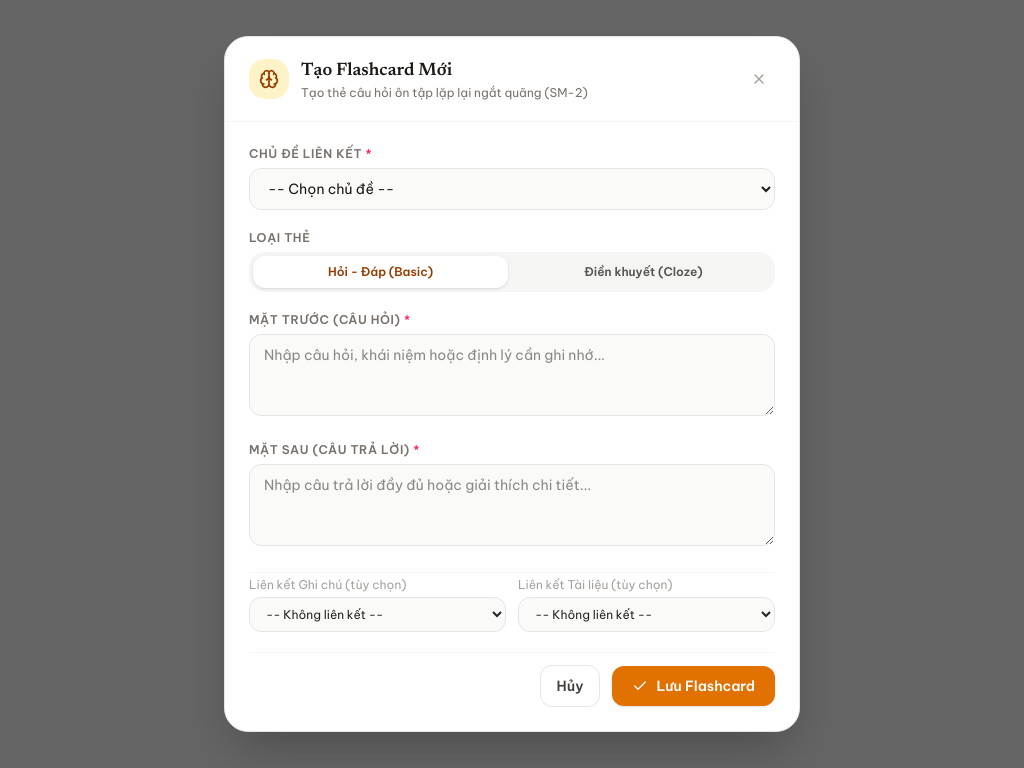
Test case: FlashcardFormModal — Unit Tests › validates topic bắt buộc (shows error when topic is not selected)
Note: Front & back filled, but topic left unselected
Step 1. Type "Câu hỏi mẫu" into the text box with test id "input-front" → (512, 375), box [249, 334, 775, 416]
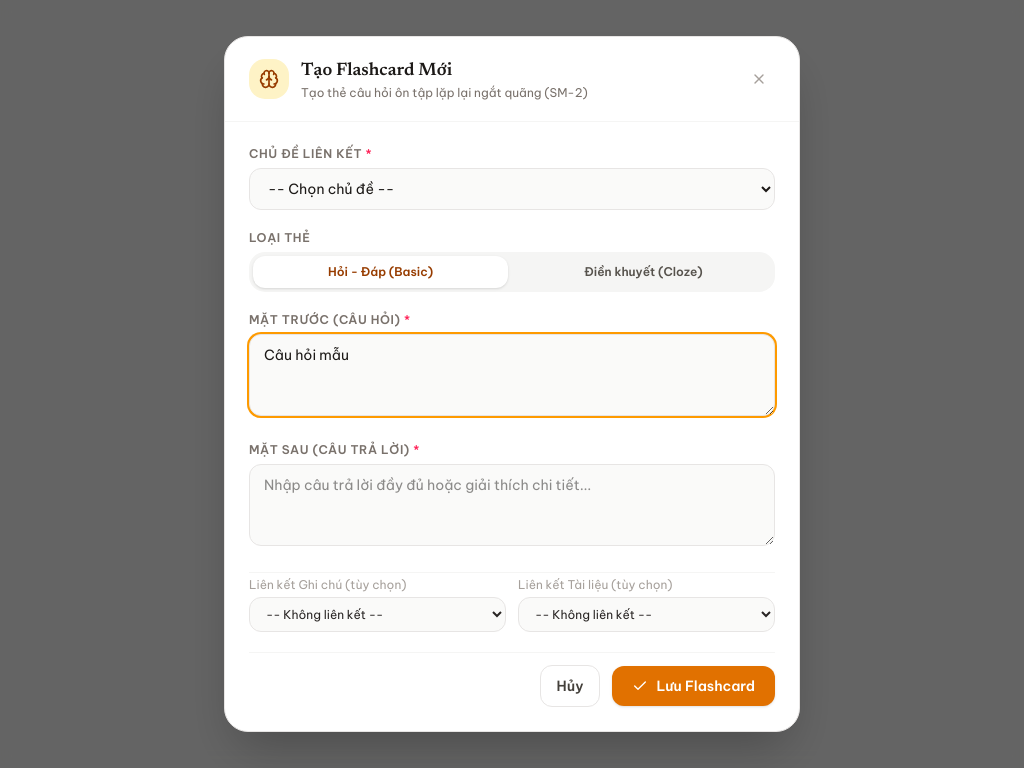
Step 2. Type "Câu trả lời mẫu" into the text box with test id "input-back" → (512, 505), box [249, 464, 775, 546]
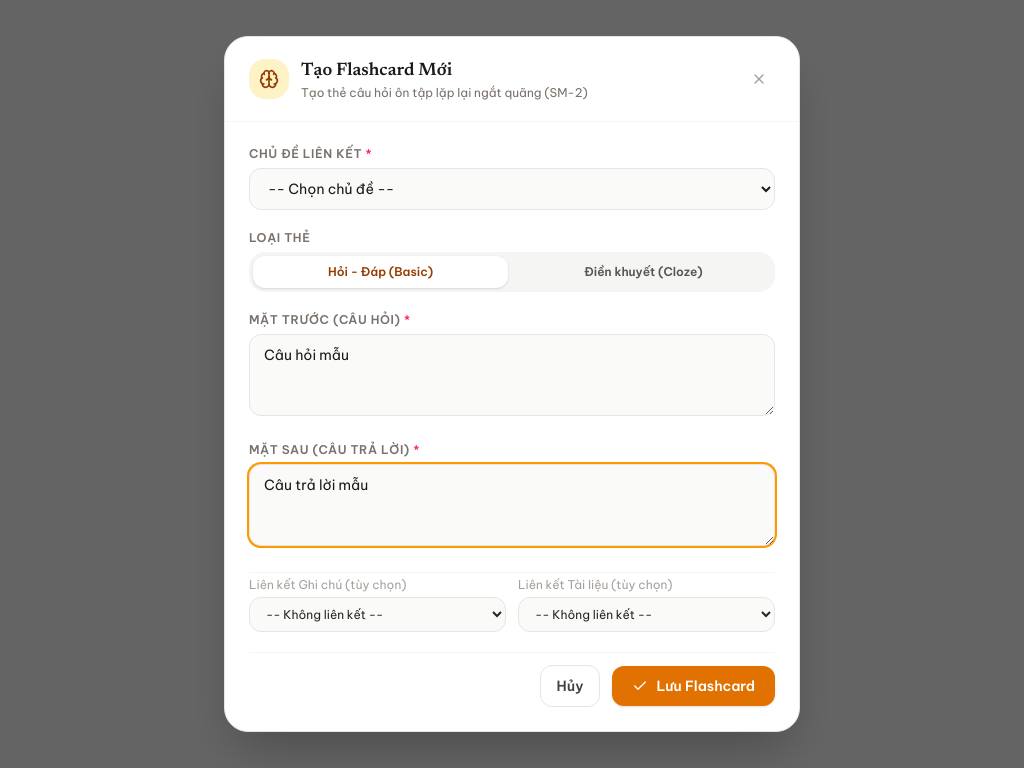
Step 3. Click the button with test id "btn-submit-flashcard" → (694, 686), box [612, 666, 775, 706]
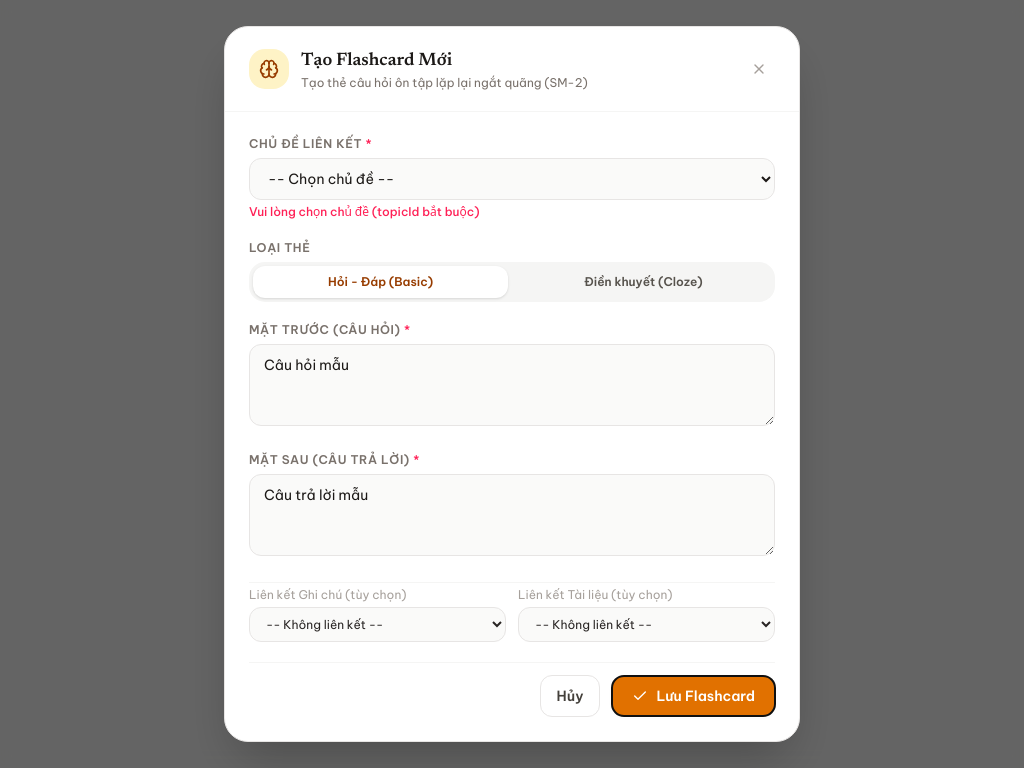
expect the text "Vui lòng chọn chủ đề (topicId bắt buộc)" is shown: met, box [249, 204, 480, 219]
